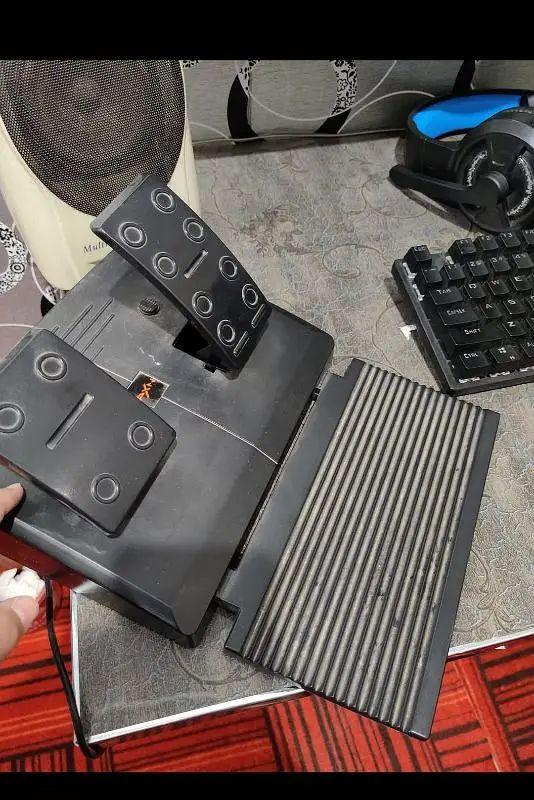electronic: (0, 175, 339, 624), (0, 23, 211, 297), (383, 43, 534, 229), (387, 221, 534, 397)
